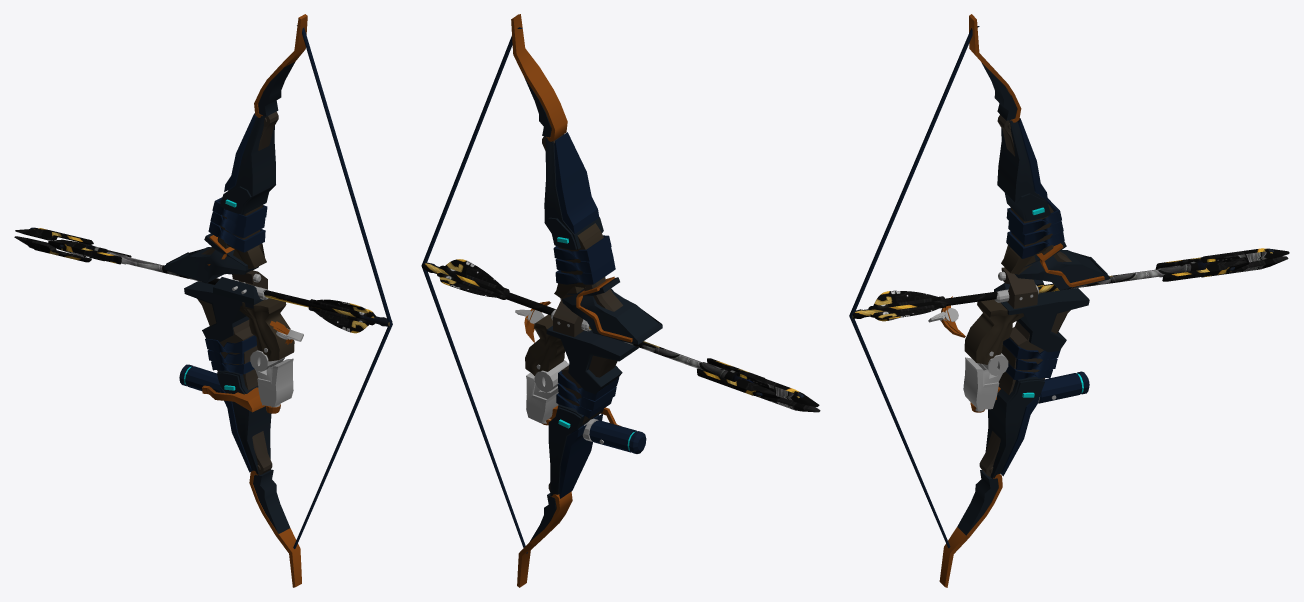
Rendered from hanzo_bow3.obj.
The picture shows the model from 3 angles, left to right: view 1: azimuth 30°, elevation 25°; view 2: azimuth 210°, elevation 25°; view 3: azimuth 270°, elevation 25°; orthographic projection. The views are drawn at different scales.
Visible parts, largest first — view 1: pCube11_Untitled.029, pCube12_Untitled.004, pCube1_Untitled.010, pCylinder12_Untitled.035, pCube15_Untitled.005, pCube6_Untitled.022, Mesh_0399_Untitled.208, Mesh_0398_Untitled.293, pCube7_Untitled.008, pCube3_Untitled.002, polySurface4_Untitled.014, Mesh_0437_Untitled.426 (+7 smaller); view 2: pCube11_Untitled.029, pCube12_Untitled.004, pCube1_Untitled.010, pCube15_Untitled.005, pCylinder12_Untitled.035, Mesh_0398_Untitled.293, Mesh_0399_Untitled.208, pCube6_Untitled.022, pCylinder4_Untitled.023, pCube7_Untitled.008, pCube13_Untitled.020, Mesh_0437_Untitled.426 (+7 smaller); view 3: pCube11_Untitled.029, pCube12_Untitled.004, pCube1_Untitled.010, Mesh_0398_Untitled.293, pCylinder12_Untitled.035, Mesh_0399_Untitled.208, pCube6_Untitled.022, pCube15_Untitled.005, pCube7_Untitled.008, pCylinder4_Untitled.023, pCube3_Untitled.002, Mesh_0437_Untitled.426 (+5 smaller).
Part boxes in pixels (x1,y1,x2,y2): pCube11_Untitled.029: (217, 113, 275, 475); pCube12_Untitled.004: (249, 14, 307, 587); pCube1_Untitled.010: (184, 277, 263, 341); pCylinder12_Untitled.035: (293, 25, 392, 548); pCube15_Untitled.005: (164, 233, 258, 283); pCube6_Untitled.022: (239, 298, 294, 361); Mesh_0399_Untitled.208: (14, 227, 131, 264); Mesh_0398_Untitled.293: (92, 246, 392, 326); pCube7_Untitled.008: (255, 358, 293, 406); pCube3_Untitled.002: (217, 320, 257, 390); polySurface4_Untitled.014: (202, 385, 280, 413); Mesh_0437_Untitled.426: (314, 299, 374, 333); pCube11_Untitled.029: (544, 132, 603, 498); pCube12_Untitled.004: (511, 14, 572, 587); pCube1_Untitled.010: (546, 326, 638, 394); pCube15_Untitled.005: (562, 277, 662, 344); pCylinder12_Untitled.035: (421, 27, 527, 553); Mesh_0398_Untitled.293: (422, 262, 737, 380); Mesh_0399_Untitled.208: (697, 358, 820, 412); pCube6_Untitled.022: (525, 314, 565, 375); pCylinder4_Untitled.023: (582, 418, 646, 453); pCube7_Untitled.008: (526, 372, 558, 423); pCube13_Untitled.020: (554, 223, 603, 299); Mesh_0437_Untitled.426: (439, 259, 503, 297); pCube11_Untitled.029: (985, 118, 1050, 478); pCube12_Untitled.004: (939, 14, 1021, 587); pCube1_Untitled.010: (994, 279, 1089, 352); Mesh_0398_Untitled.293: (852, 261, 1198, 318); pCylinder12_Untitled.035: (849, 26, 979, 548); Mesh_0399_Untitled.208: (1155, 248, 1289, 281); pCube6_Untitled.022: (964, 299, 1023, 364); pCube15_Untitled.005: (1015, 242, 1109, 290); pCube7_Untitled.008: (963, 357, 1002, 409); pCylinder4_Untitled.023: (1038, 371, 1089, 403); pCube3_Untitled.002: (998, 321, 1044, 394); Mesh_0437_Untitled.426: (873, 290, 941, 321).
Size of the model in its own units: 1.03 by 3.21 by 2.21.
